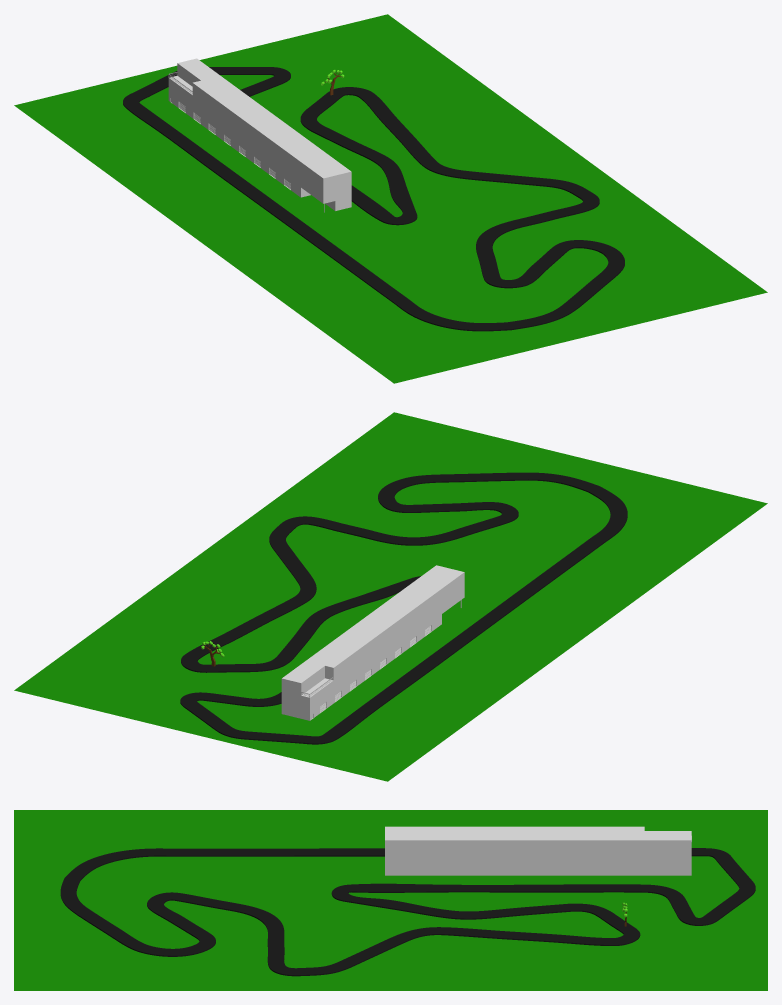
The model's file is track.glb.
The picture shows the model from 3 angles, top to bottom: view 1: azimuth 30°, elevation 25°; view 2: azimuth 150°, elevation 25°; view 3: azimuth 270°, elevation 25°; orthographic projection.
Parts seen in each view (by area): view 1: Ground, Algarve_International_Circuit_Portimão, Pit-Lane-Main; view 2: Ground, Algarve_International_Circuit_Portimão, Pit-Lane-Main; view 3: Ground, Algarve_International_Circuit_Portimão, Pit-Lane-Main.
Part boxes in pixels (x1,y1,x2,y2): Ground: (14,14,767,383); Algarve_International_Circuit_Portimão: (123,67,624,331); Pit-Lane-Main: (168,58,351,210); Ground: (14,412,767,781); Algarve_International_Circuit_Portimão: (180,472,627,744); Pit-Lane-Main: (281,565,464,720); Ground: (14,810,767,990); Algarve_International_Circuit_Portimão: (60,848,755,976); Pit-Lane-Main: (385,826,691,875).
Size of the model in its own units: 345 by 37.69 by 607.
Materials: 7 (2 with a texture image).
